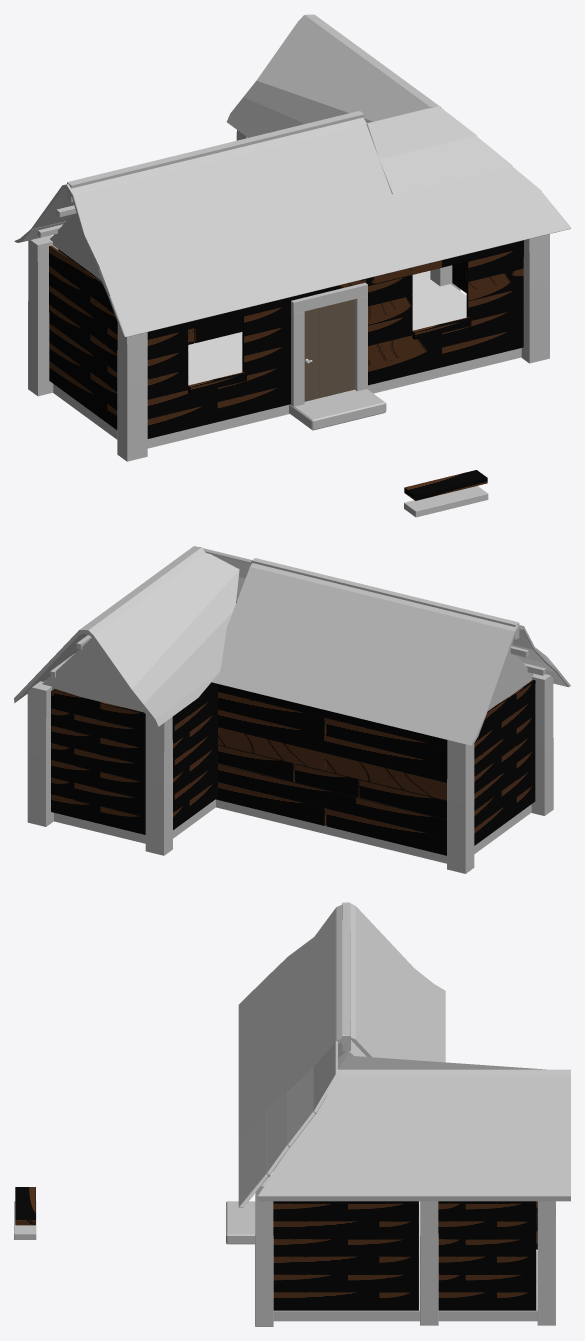
The model's file is CasaUpside.fbx.
The picture shows the model from 3 angles, top to bottom: view 1: azimuth 30°, elevation 25°; view 2: azimuth 150°, elevation 25°; view 3: azimuth 270°, elevation 25°; orthographic projection. The views are drawn at different scales.
Visible parts, largest first — view 1: Cube.118, Cube.121, Plane, Plane.001, MD.003, Cube.053, MD.004, MD.001, Cube, MD.015, Cube.016, Cube.017 (+33 smaller); view 2: Cube.118, Cube.121, Cube.001, Cube.053, MD.009, MD.004, MD.008, MD.003, Cube.044, Cube.049, Cube.052, Cube.047 (+42 smaller); view 3: Cube.121, Cube.118, Cube.053, MD.001, MD.002, MD.008, Cube.062, Cube.064, Cube.066, Cube.063, Cube.067, Cube.065 (+19 smaller).
Part boxes in pixels (left/top/right/bottom): Cube.118: left=14, top=106, right=570, bottom=337; Cube.121: left=227, top=14, right=441, bottom=137; Plane: left=304, top=299, right=354, bottom=401; Plane.001: left=188, top=270, right=466, bottom=385; MD.003: left=117, top=323, right=147, bottom=461; Cube.053: left=53, top=348, right=521, bottom=448; MD.004: left=28, top=235, right=58, bottom=396; MD.001: left=521, top=234, right=549, bottom=363; Cube: left=289, top=389, right=386, bottom=430; MD.015: left=67, top=111, right=364, bottom=188; Cube.016: left=442, top=328, right=523, bottom=367; Cube.017: left=442, top=308, right=523, bottom=347; Cube.118: left=194, top=546, right=570, bottom=745; Cube.121: left=14, top=546, right=239, bottom=726; Cube.001: left=42, top=638, right=533, bottom=712; Cube.053: left=54, top=799, right=531, bottom=863; MD.009: left=145, top=715, right=172, bottom=855; MD.004: left=447, top=740, right=474, bottom=873; MD.008: left=27, top=681, right=53, bottom=826; MD.003: left=531, top=673, right=553, bottom=815; Cube.044: left=218, top=763, right=356, bottom=815; Cube.049: left=325, top=753, right=446, bottom=800; Cube.052: left=326, top=808, right=446, bottom=855; Cube.047: left=326, top=718, right=447, bottom=765; Cube.121: left=257, top=1055, right=570, bottom=1201; Cube.118: left=238, top=902, right=445, bottom=1207; Cube.053: left=273, top=1310, right=537, bottom=1321; MD.001: left=255, top=1176, right=273, bottom=1326; MD.002: left=420, top=1201, right=438, bottom=1325; MD.008: left=537, top=1201, right=555, bottom=1325; Cube.062: left=273, top=1292, right=379, bottom=1310; Cube.064: left=273, top=1256, right=379, bottom=1274; Cube.066: left=273, top=1221, right=379, bottom=1239; Cube.063: left=273, top=1274, right=347, bottom=1292; Cube.067: left=273, top=1203, right=347, bottom=1221; Cube.065: left=273, top=1239, right=347, bottom=1257.
Bounding box in the file's own units: 1228 × 643 × 1422.
